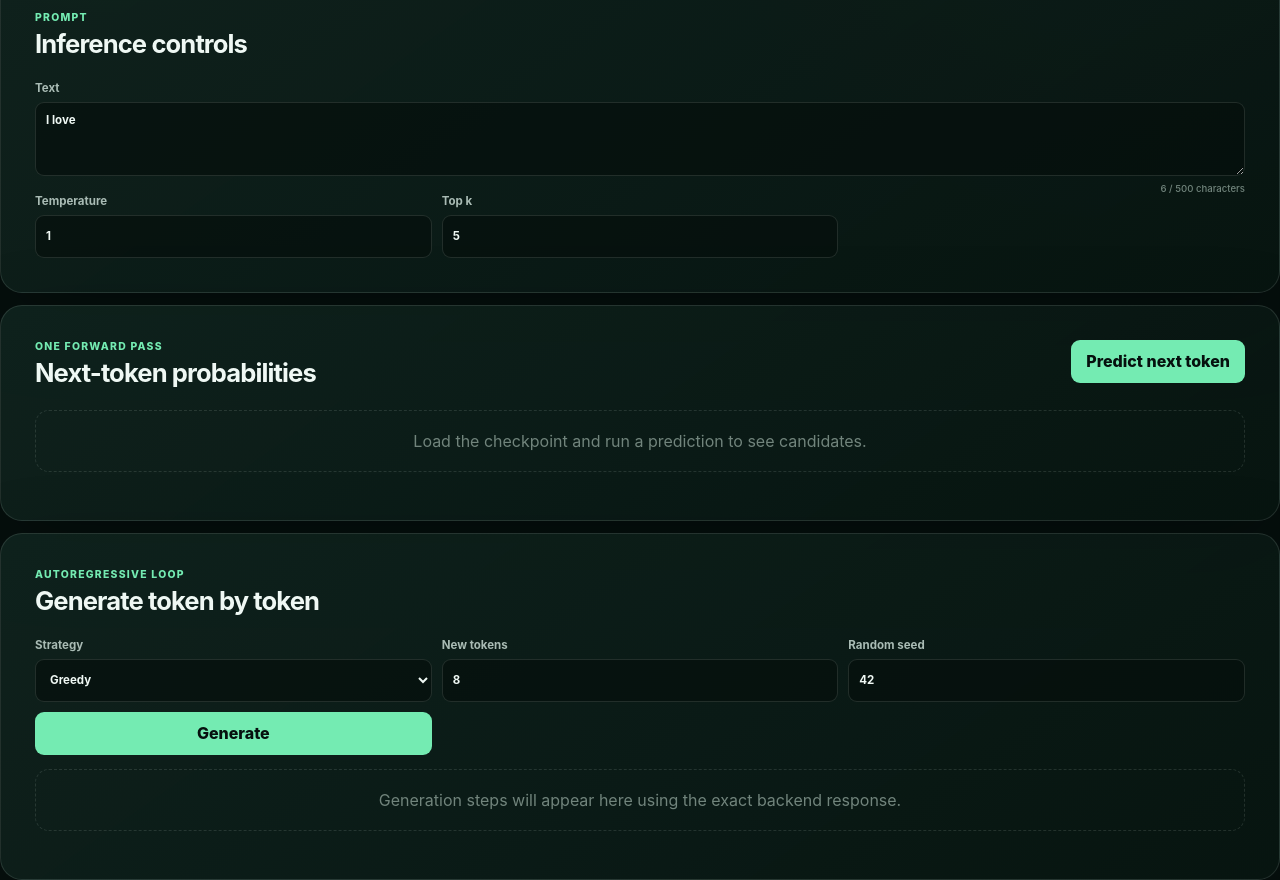
PredictionPage generation motion › reveals every remaining backend generation step immediately when reduced motion becomes active
The image size is (1280, 880).
(page scrolled)
Click the button "Generate" at coordinates (233, 733), box [35,712,432,755]
(page scrolled)
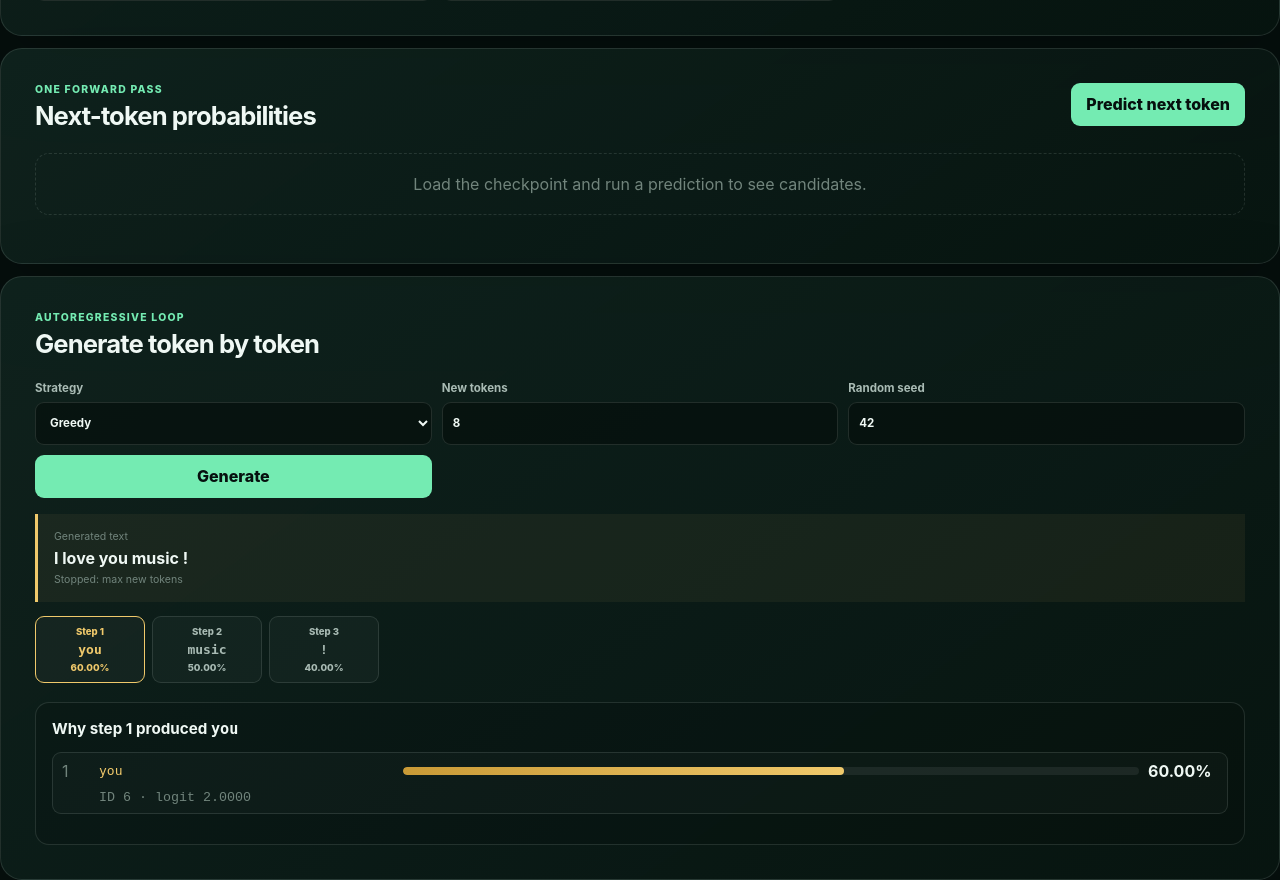
Result: the text "Step 1" is shown at [76,626,104,637]
Result: the text "Step 3" is shown at [309,626,339,637]
